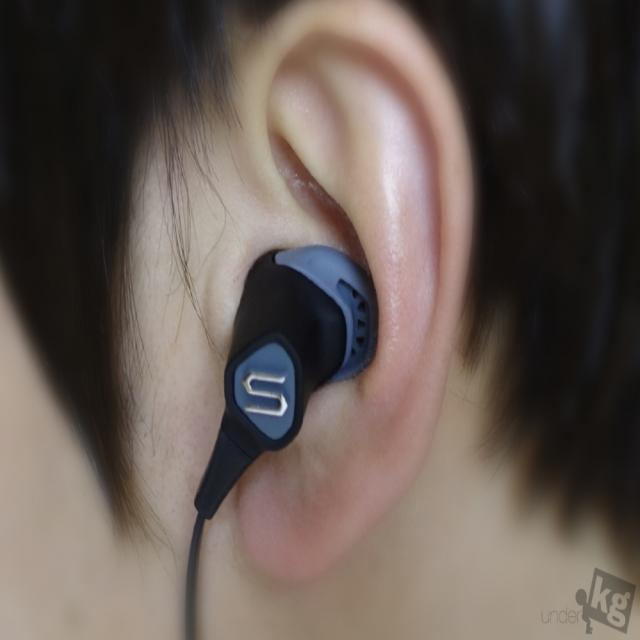earphone: (185, 192, 377, 542)
